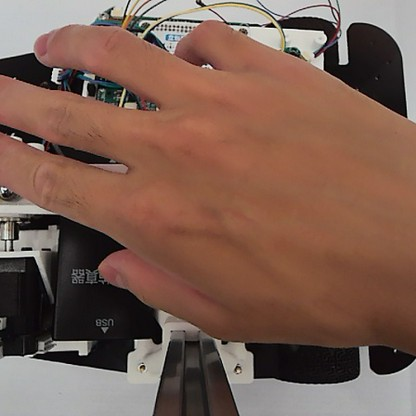ironball: (0, 185, 21, 204)
